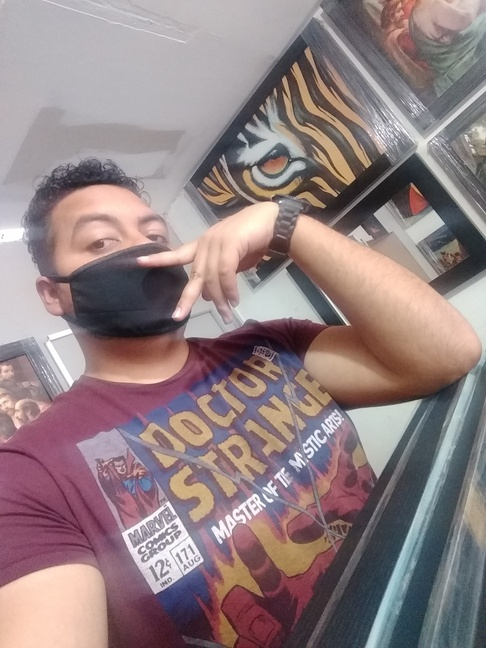Yoshi: (13, 131, 216, 373)
